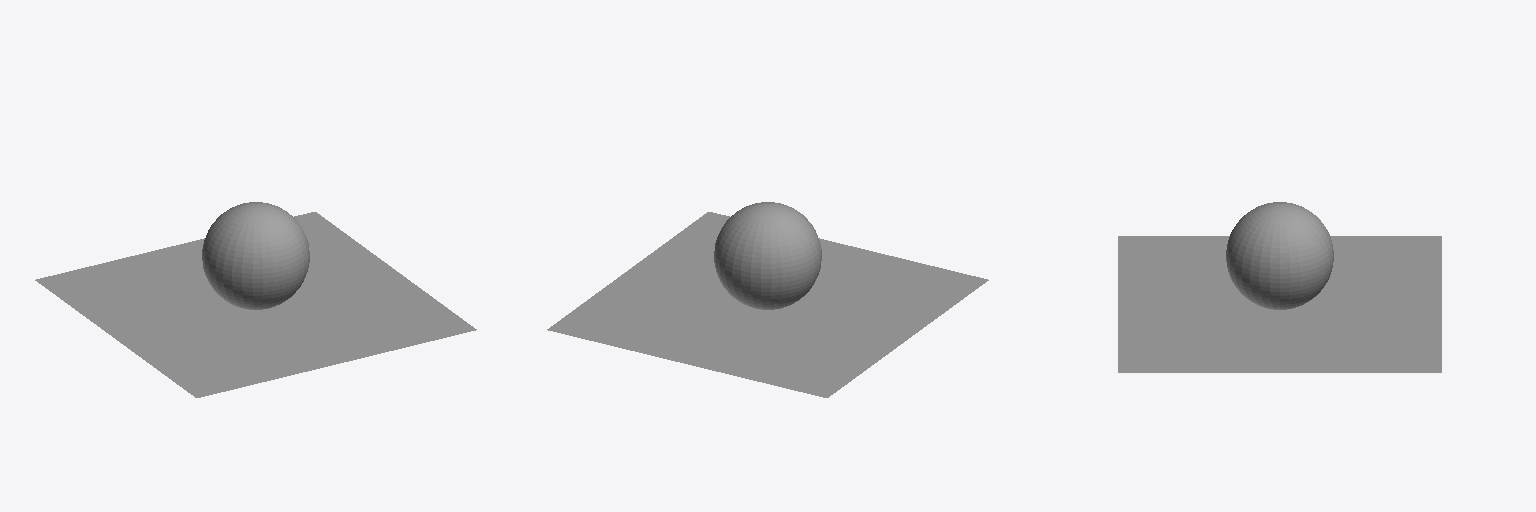
File: GlassSphere-Plane.obj
3 views of the same model, side by side, from view 1: azimuth 30°, elevation 25°; view 2: azimuth 150°, elevation 25°; view 3: azimuth 270°, elevation 25° (orthographic).
Visible parts, largest first — view 1: Plane, Sphere; view 2: Plane, Sphere; view 3: Plane, Sphere.
Part boxes in pixels (x1,y1,x2,y2): Plane: (35,212,476,397); Sphere: (202,202,309,309); Plane: (547,212,988,397); Sphere: (714,202,821,309); Plane: (1118,236,1441,372); Sphere: (1226,202,1333,309).
Size of the model in its own units: 6 by 2 by 6.